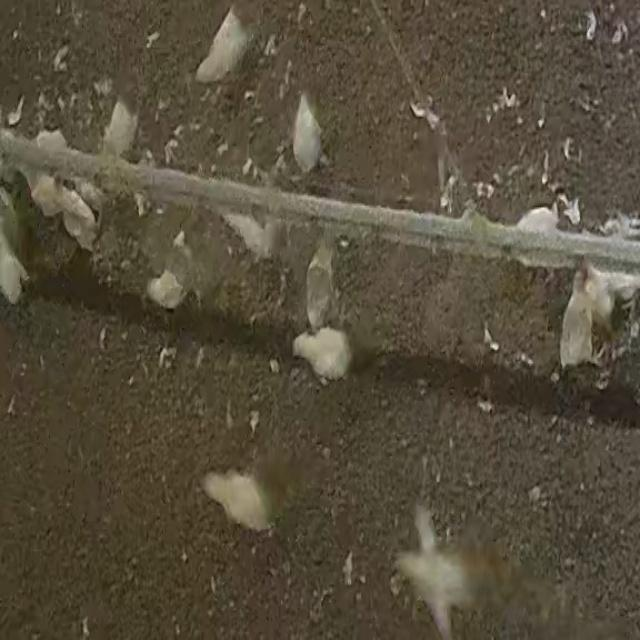chicken: (200, 460, 278, 536), (555, 267, 609, 373), (194, 9, 255, 83), (286, 327, 356, 381), (286, 93, 332, 172), (298, 250, 341, 328), (101, 98, 144, 160)
